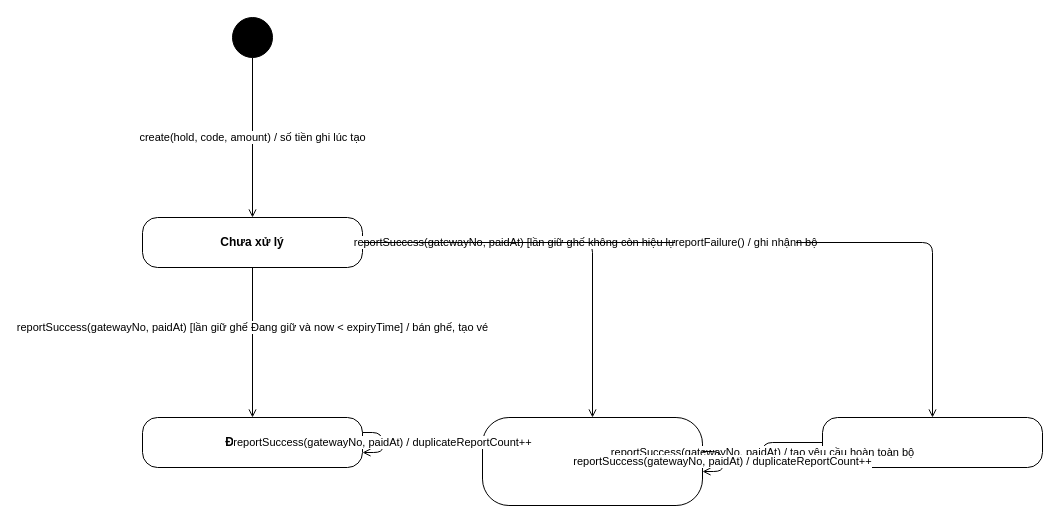
Some shapes in this 1060 by 523 pixel diagram are drawn without their labels. Here are the shapes that lost their labels. From the top down, the box of each, then its label:
(482, 416, 702, 506): Đã ghi nhận thanh toán trễ entry / ghi lateReason
(822, 416, 1042, 468): Đã ghi nhận thất bại
